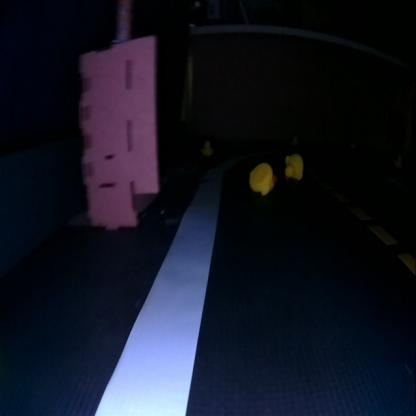Duckie: (250, 163, 271, 193), (286, 152, 303, 180), (201, 140, 212, 152)
